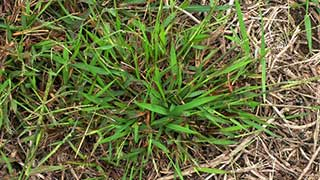crabgrass: (49, 26, 269, 162)
